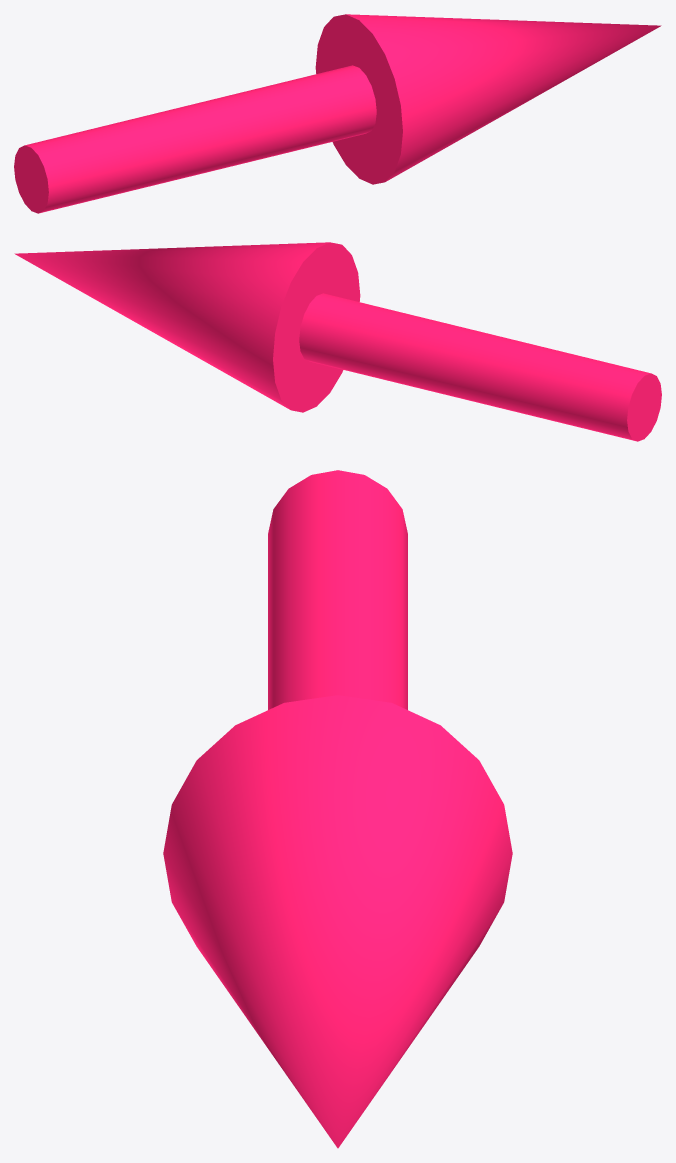
File: thrust_bearing_assembly_thrust.glb
3 views of the same model, one above another, from view 1: azimuth 30°, elevation 25°; view 2: azimuth 150°, elevation 25°; view 3: azimuth 270°, elevation 25° (orthographic). The views are drawn at different scales.
Parts seen in each view (by area): view 1: thrustarrow; view 2: thrustarrow; view 3: thrustarrow.
Boxes of the visible parts, x1,y1,x2,y2 form: thrustarrow: [14, 14, 661, 213]; thrustarrow: [14, 242, 661, 441]; thrustarrow: [163, 470, 512, 1148].
Size of the model in its own units: 0.25 by 0.06 by 0.06.
